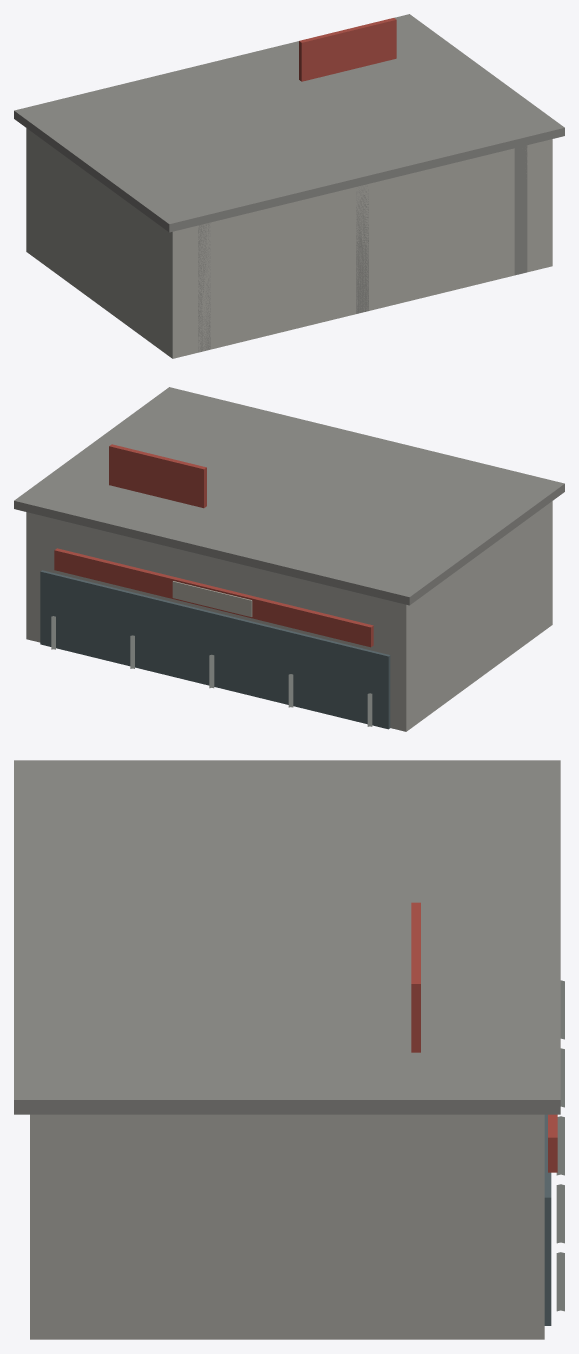
The model's file is b_cum.glb.
3 renders of one model, top to bottom at view 1: azimuth 30°, elevation 25°; view 2: azimuth 150°, elevation 25°; view 3: azimuth 270°, elevation 25°, orthographic. The views are drawn at different scales.
Visible parts, largest first — view 1: walls, col_2, col_1, col_0; view 2: walls; view 3: walls.
Boxes of the visible parts, bbox=[...] form: walls: bbox=[14, 14, 564, 358]; col_2: bbox=[514, 145, 527, 275]; col_1: bbox=[356, 186, 368, 313]; col_0: bbox=[198, 223, 210, 352]; walls: bbox=[14, 387, 564, 731]; walls: bbox=[14, 760, 564, 1339].
Bounding box in the file's own units: 25 × 10.8 × 17.13.
